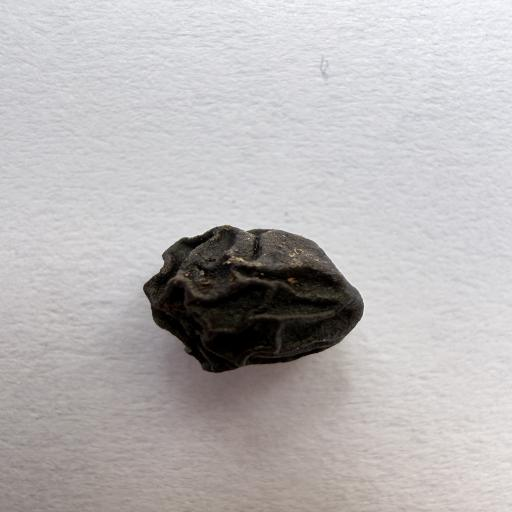Black_pepper: (115, 202, 386, 390)
